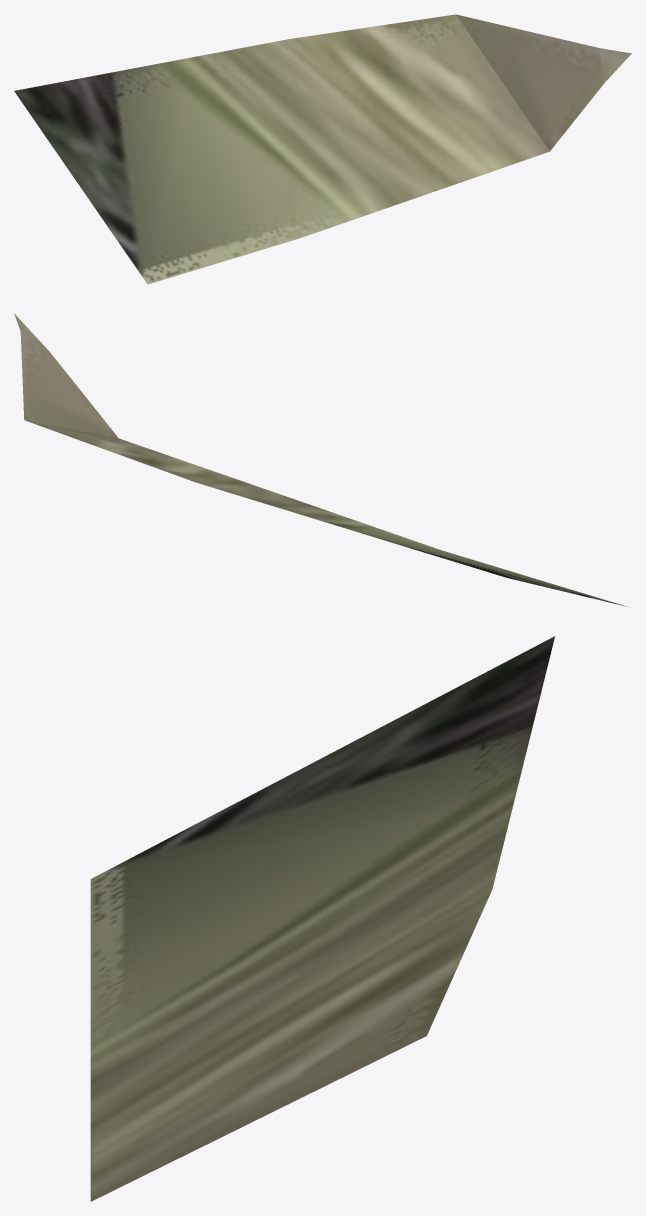
3 renders of one model, top to bottom at view 1: azimuth 30°, elevation 25°; view 2: azimuth 150°, elevation 25°; view 3: azimuth 270°, elevation 25°, orthographic. The views are drawn at different scales.
Size of the model in its own units: 4 by 0.8592 by 1.6.
1 material, 1 textured.
